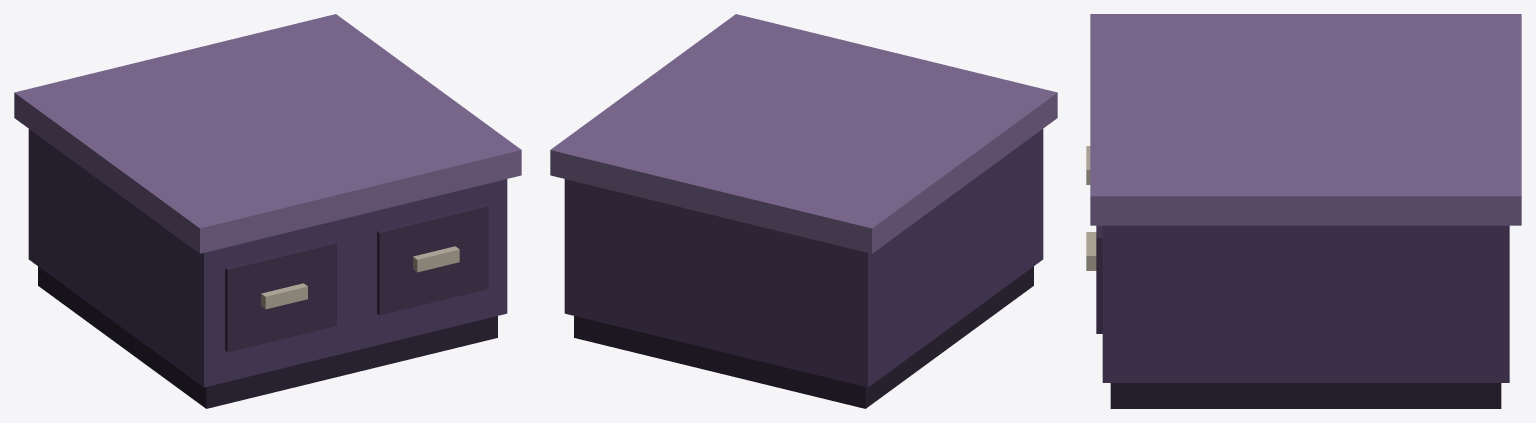
File: k_mire_counter.glb
3 renders of one model, left to right at view 1: azimuth 30°, elevation 25°; view 2: azimuth 150°, elevation 25°; view 3: azimuth 270°, elevation 25°, orthographic. The views are drawn at different scales.
Visible parts, largest first — view 1: piece; view 2: piece; view 3: piece.
Boxes of the visible parts, x1,y1,x2,y2 form: piece: (14,14,521,408); piece: (550,14,1057,408); piece: (1086,14,1521,408).
Size of the model in its own units: 1.06 by 0.6 by 1.07.
